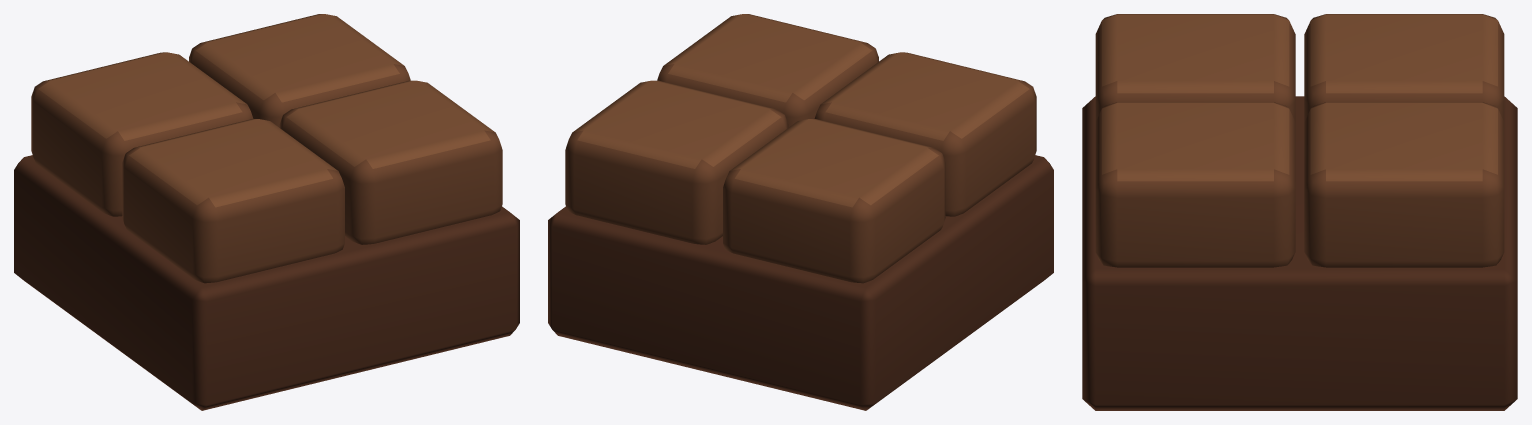
Rendered from candy-prop1.glb.
3 renders of one model, left to right at view 1: azimuth 30°, elevation 25°; view 2: azimuth 150°, elevation 25°; view 3: azimuth 270°, elevation 25°, orthographic. The views are drawn at different scales.
Parts seen in each view (by area): view 1: candy-prop1; view 2: candy-prop1; view 3: candy-prop1.
Part boxes in pixels (left/top/right/bottom): candy-prop1: left=14, top=14, right=519, bottom=410; candy-prop1: left=548, top=14, right=1053, bottom=410; candy-prop1: left=1082, top=14, right=1517, bottom=410.
Bounding box in the file's own units: 1 × 0.59 × 1.
